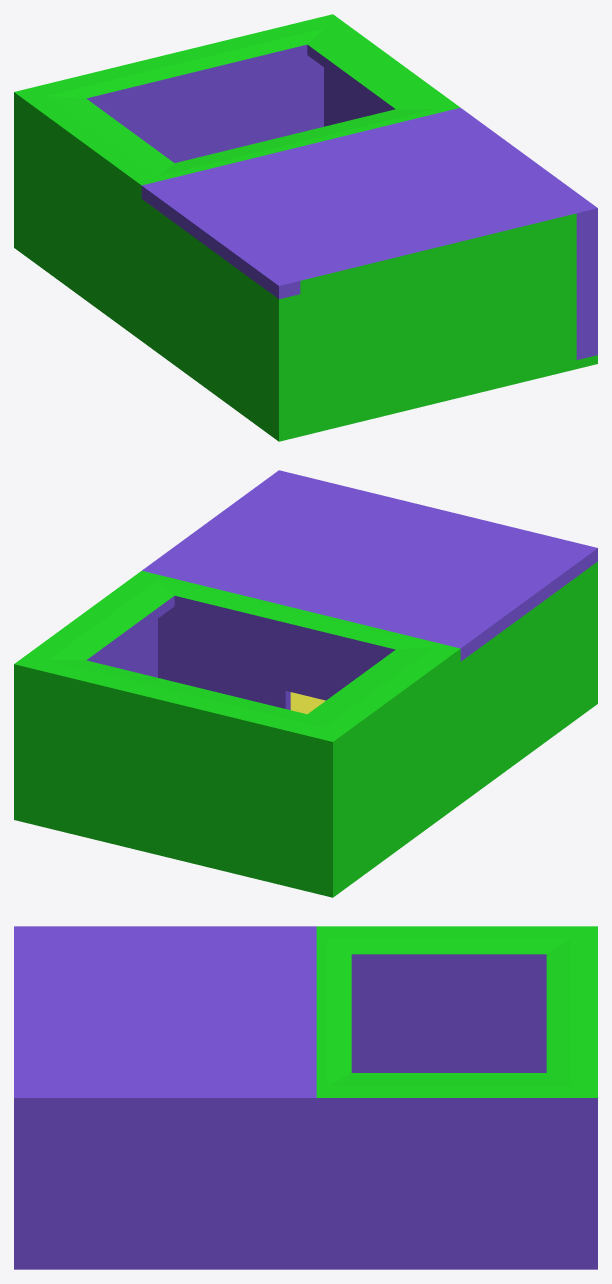
File: room.glb
3 views of the same model, one above another, from view 1: azimuth 30°, elevation 25°; view 2: azimuth 150°, elevation 25°; view 3: azimuth 270°, elevation 25° (orthographic). The views are drawn at different scales.
Parts seen in each view (by area): view 1: Cube; view 2: Cube; view 3: Cube.
Part boxes in pixels (x1,y1,x2,y2): Cube: [14, 14, 597, 441]; Cube: [14, 470, 597, 897]; Cube: [14, 926, 597, 1269].
Bounding box in the file's own units: 15 × 7 × 21.58.
